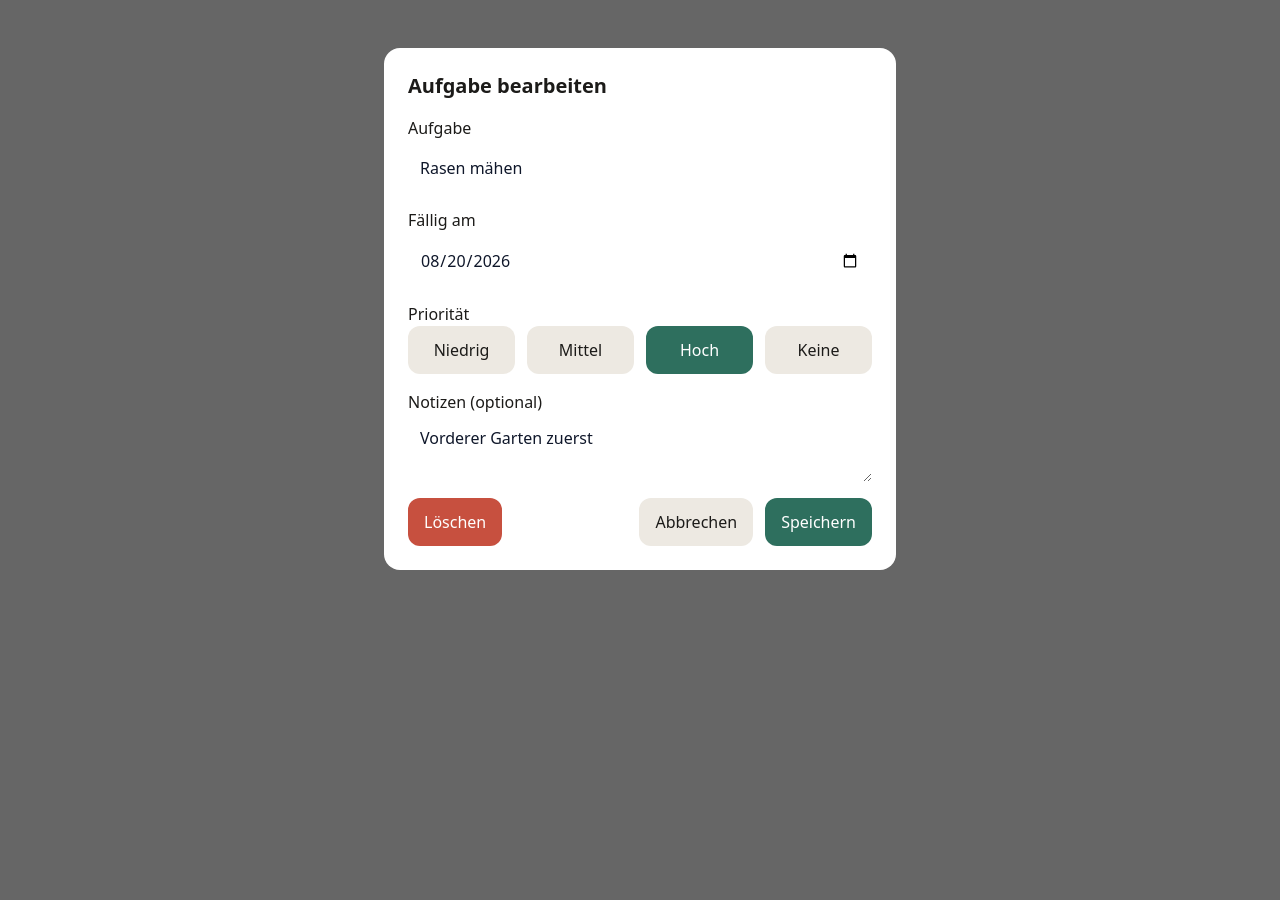
Test: TaskDialog (edit) › resets the delete confirmation when cancel is pressed
Click the button "Löschen": (455, 522) left=408, top=498, right=502, bottom=546
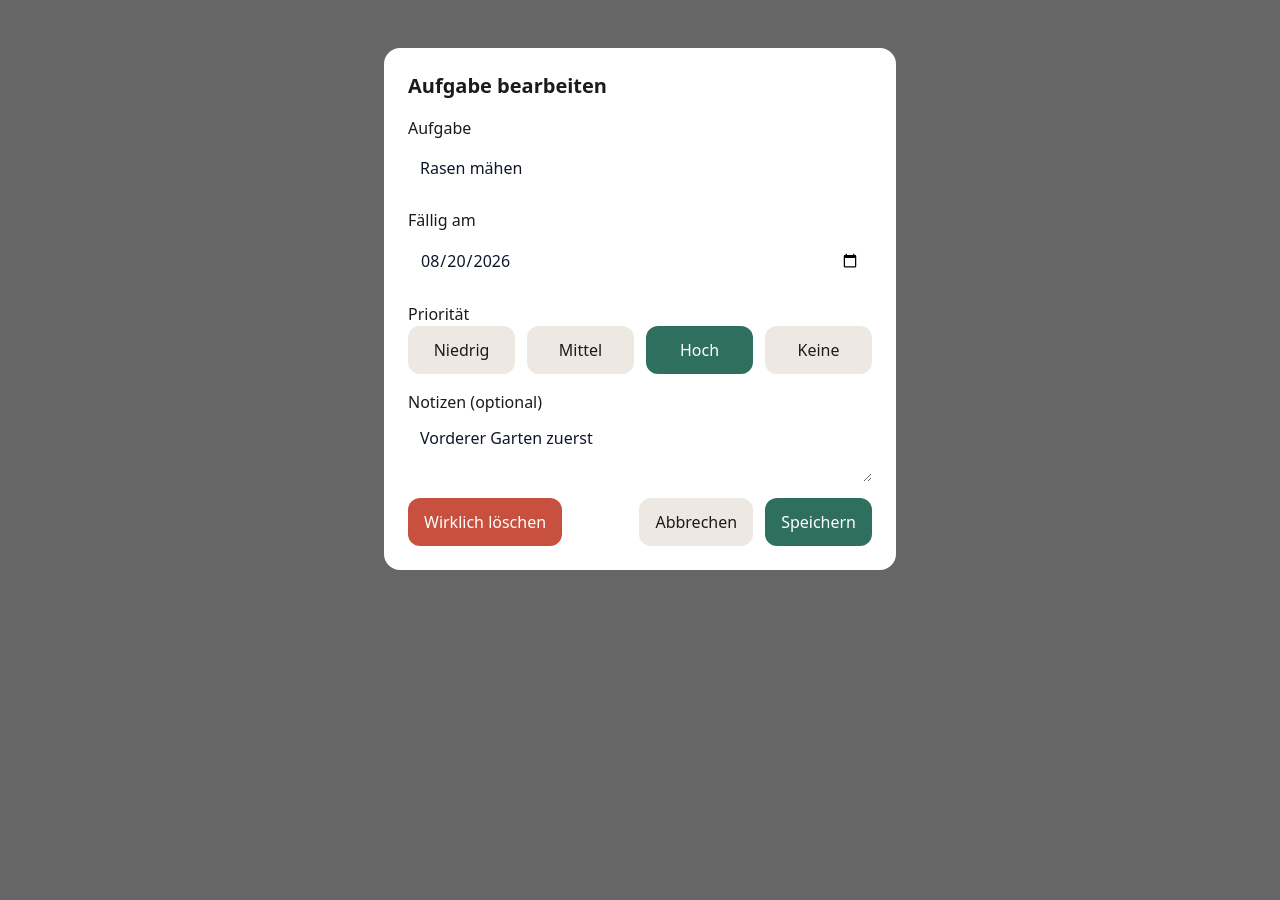
Expected: the button "Wirklich löschen" is shown, left=408, top=498, right=562, bottom=546
Click the button "Abbrechen": (696, 522) left=639, top=498, right=753, bottom=546
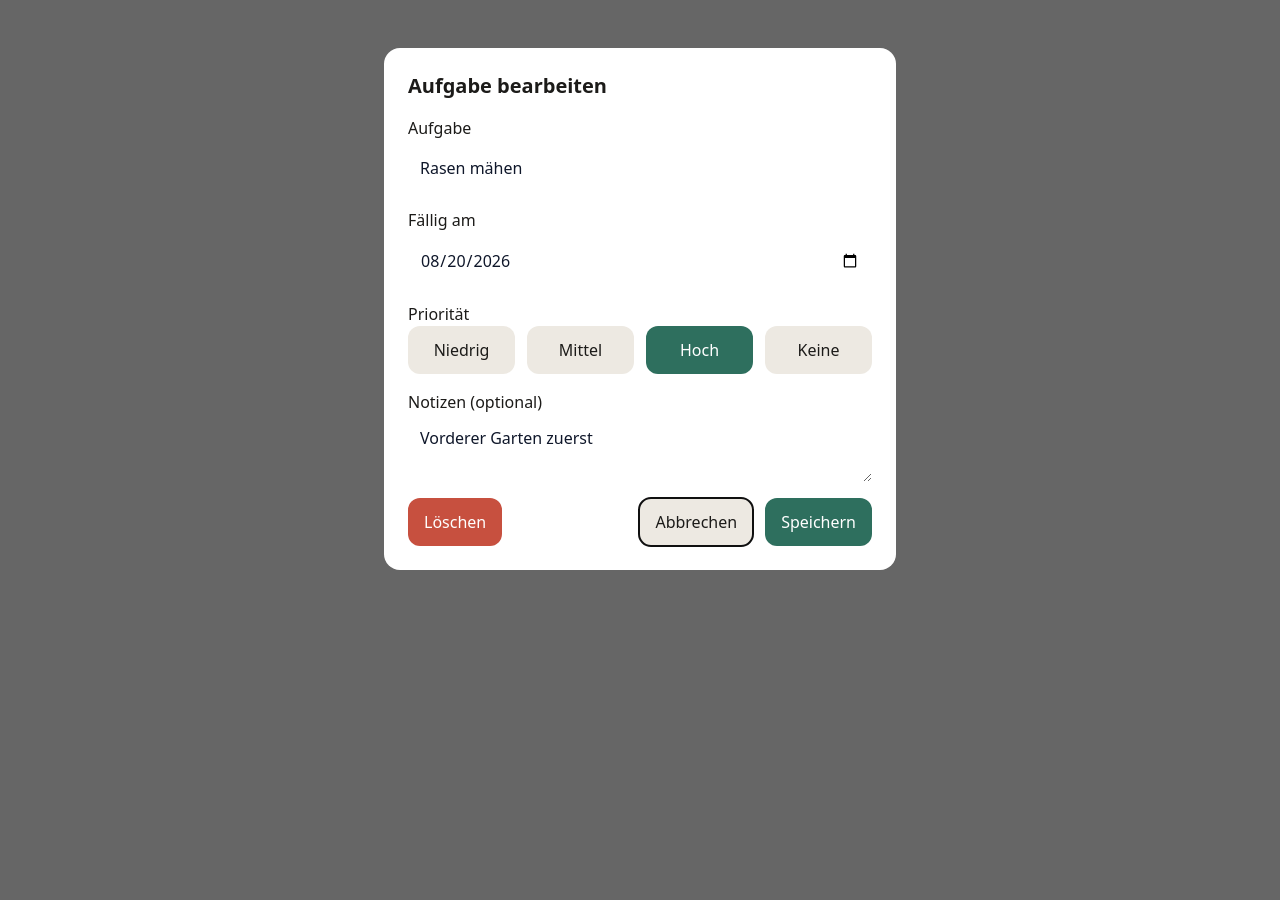
Expected: the button "Löschen" is shown, left=408, top=498, right=502, bottom=546
Expected: the button "Wirklich löschen" is gone
